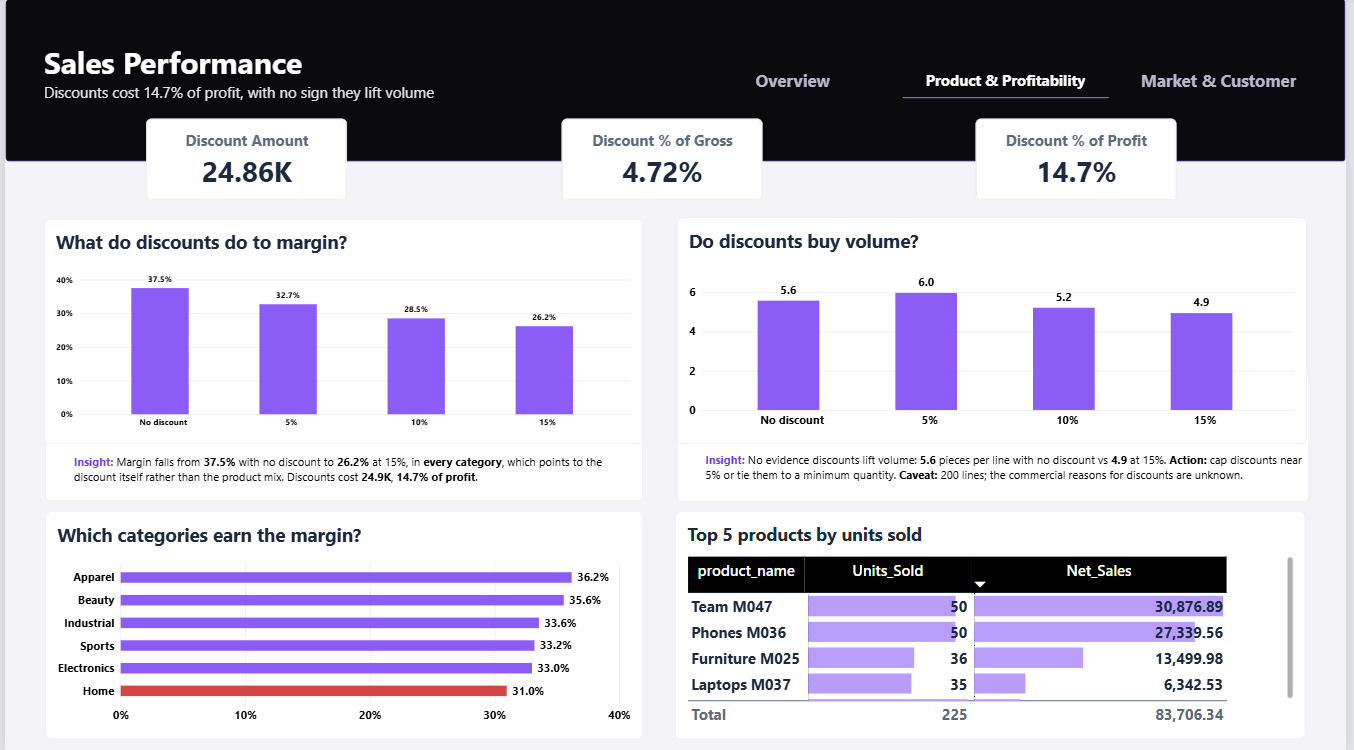

The dashboard page shown, as its layout file describes it:
{"tool":"powerbi","page":{"name":"Product & Profitability","canvas":[1920,1080],"ordinal":1},"visuals":[{"type":"shape","box":[0,1.6,1921.2,234.6],"z":1000},{"type":"textbox","box":[55,65,1424.5,107.5],"z":2000},{"type":"cardVisual","fields":{"Data":["Measure.Discount % of Profit"]},"box":[1390,174,288,118],"z":3000},{"type":"cardVisual","fields":{"Data":["Measure.Discount Amount"]},"box":[202,174,288,118],"z":4000},{"type":"cardVisual","fields":{"Data":["Measure.Discount % of Gross"]},"box":[798,174,288,118],"z":5000},{"type":"textbox","box":[58,560,855.6,161.1],"z":6000},{"type":"textbox","box":[962,540,905.6,183.3],"z":7000},{"type":"pageNavigator","box":[980,95,908.9,51.8],"z":8000},{"type":"clusteredColumnChart","title":"What do discounts do to margin?","fields":{"Category":["fact_sales.Discount Band"],"Y":["Measure.Margin %"]},"box":[56,318,858,322],"z":9000},{"type":"clusteredColumnChart","title":"\tDo discounts buy volume?","fields":{"Category":["fact_sales.Discount Band"],"Y":["Measure.Avg Qty per Line"]},"box":[962,316,902,324],"z":10000},{"type":"clusteredBarChart","title":"Which categories earn the margin?","fields":{"Category":["dim_product.category"],"Y":["Measure.Margin %"]},"box":[58,736,856,326],"z":11000},{"type":"tableEx","title":"Top 5 products by units sold","fields":{"Values":["dim_product.product_name","Measure.Units_Sold","Measure.Net_Sales"]},"box":[960,736,902,326],"z":13000}]}

Visuals, with their boxes in screenshot pixels (x1, y1, x2, y2), scaled from the page's 1920x1080 canvas onto the 1354x750 screenshot:
shape: Rect(0, 1, 1353, 164)
textbox: Rect(39, 45, 1043, 120)
cardVisual - Measure.Discount % of Profit: Rect(980, 121, 1183, 203)
cardVisual - Measure.Discount Amount: Rect(142, 121, 346, 203)
cardVisual - Measure.Discount % of Gross: Rect(563, 121, 766, 203)
textbox: Rect(41, 389, 644, 501)
textbox: Rect(678, 375, 1317, 502)
pageNavigator: Rect(691, 66, 1332, 102)
"What do discounts do to margin?" clusteredColumnChart: Rect(39, 221, 645, 444)
"	Do discounts buy volume?" clusteredColumnChart: Rect(678, 219, 1315, 444)
"Which categories earn the margin?" clusteredBarChart: Rect(41, 511, 645, 738)
"Top 5 products by units sold" tableEx: Rect(677, 511, 1313, 738)
